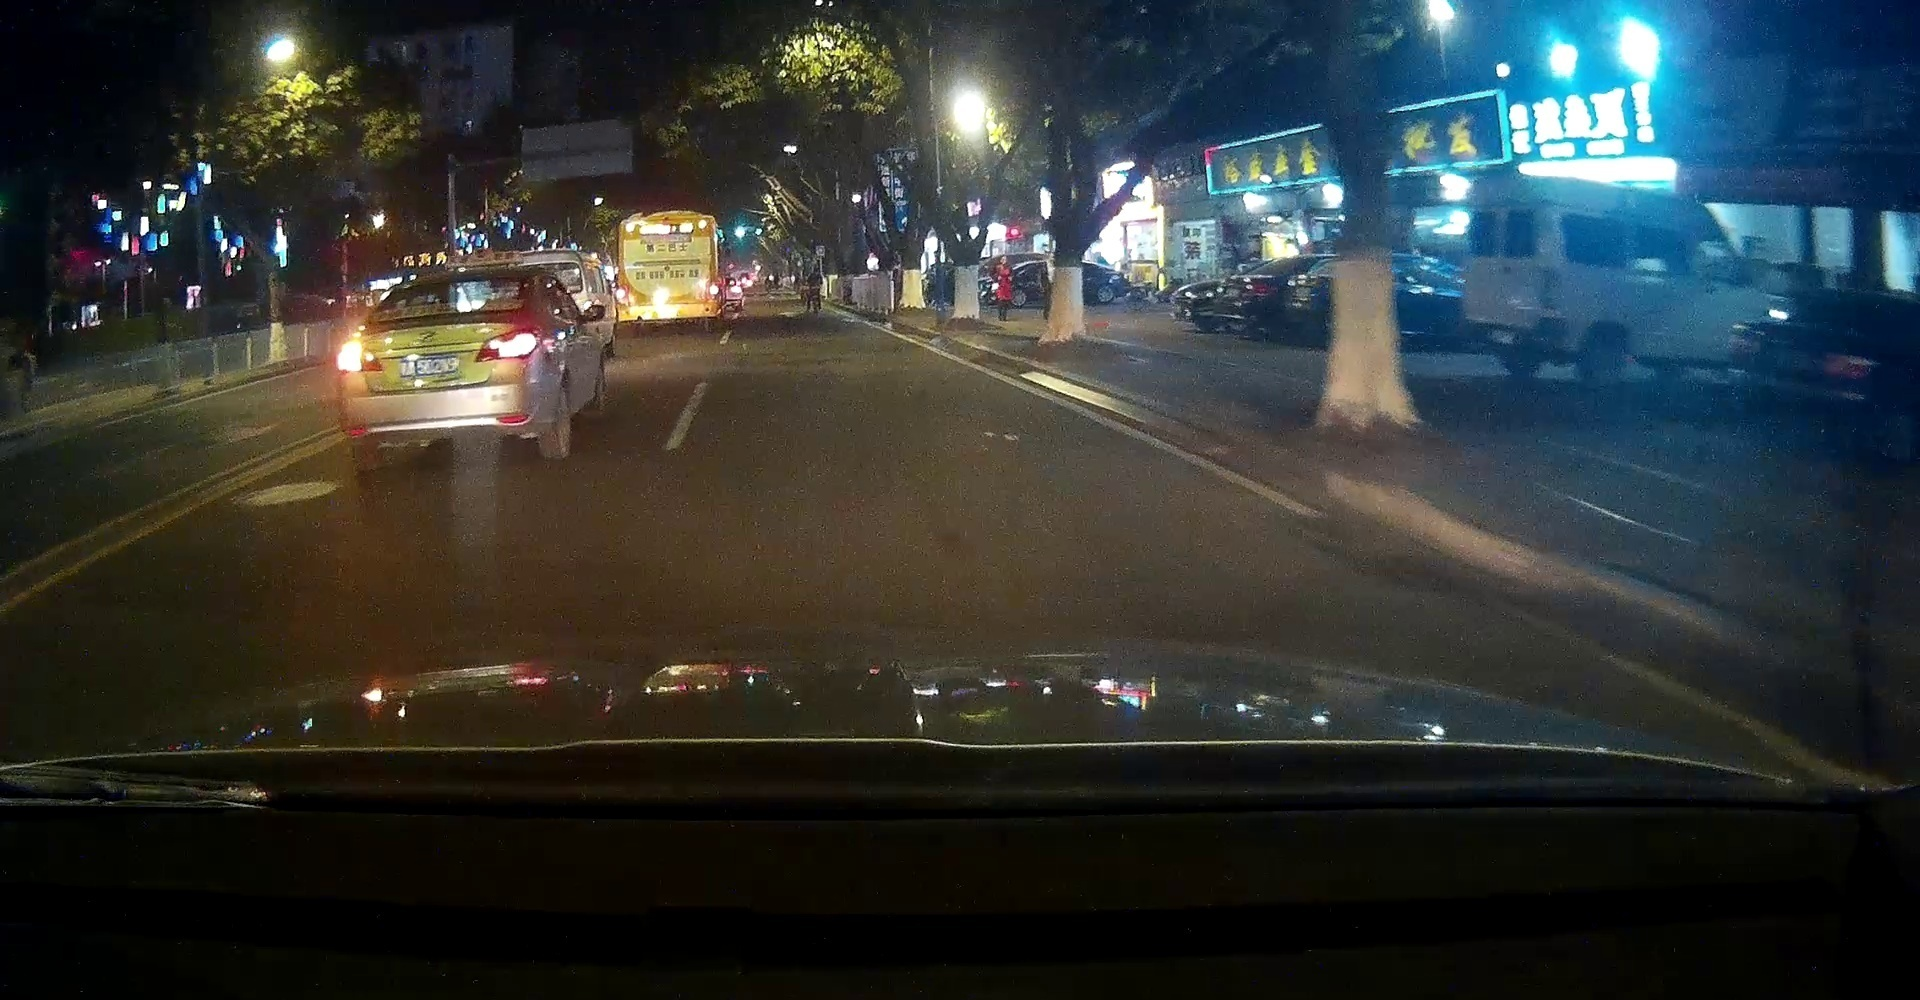L_light: (335, 339, 385, 374), (615, 284, 629, 305)
R_light: (472, 325, 541, 363), (707, 280, 719, 302)
T_light: (397, 353, 460, 377), (430, 275, 467, 286), (653, 216, 676, 225)
night-left: (334, 265, 547, 472)
night-no: (613, 209, 719, 332)
